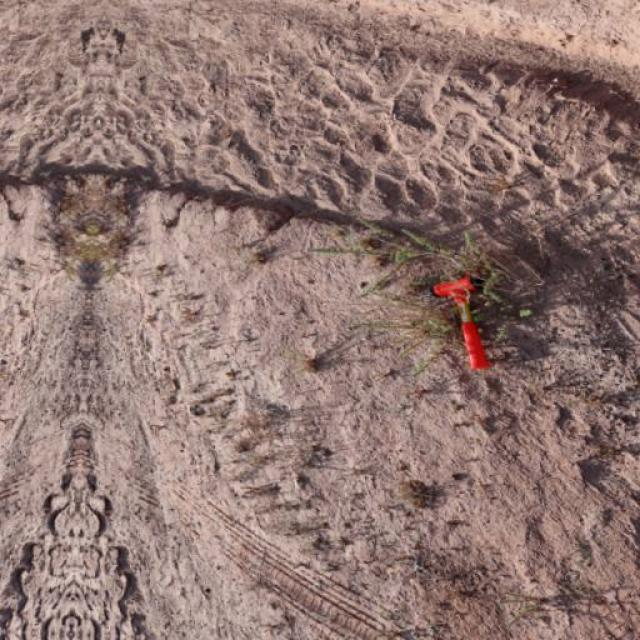mallet: (432, 272, 492, 370)
